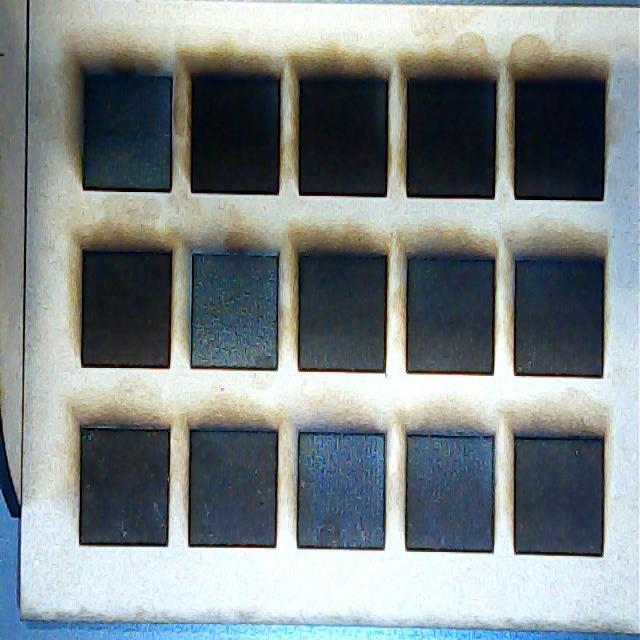nothing: (510, 61, 613, 209), (185, 56, 286, 206), (71, 61, 179, 200), (507, 244, 615, 383), (399, 62, 504, 204), (75, 410, 176, 555), (400, 239, 500, 384), (507, 423, 610, 563), (181, 420, 284, 557), (293, 63, 395, 201), (75, 242, 180, 374), (295, 418, 394, 558), (401, 420, 500, 560), (292, 242, 392, 378), (186, 242, 284, 380)
